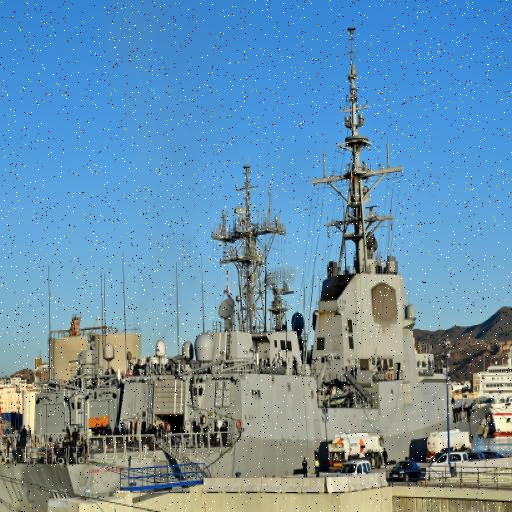Fragata: (1, 17, 490, 512)
